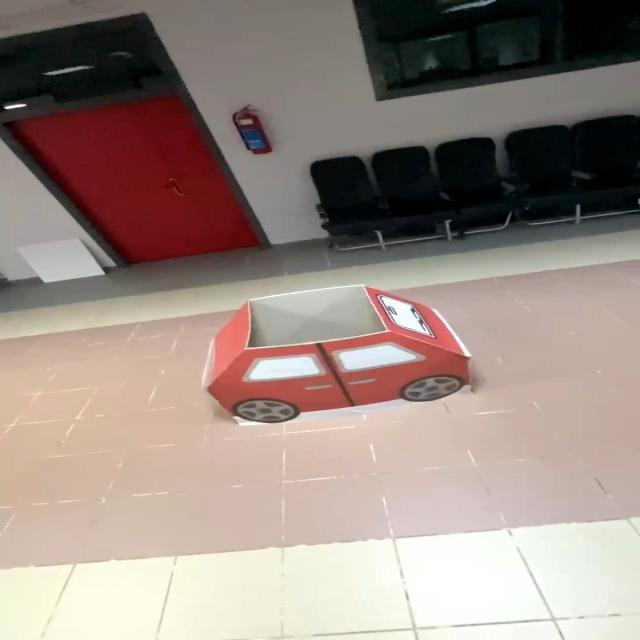red_car: (167, 268, 509, 448)
